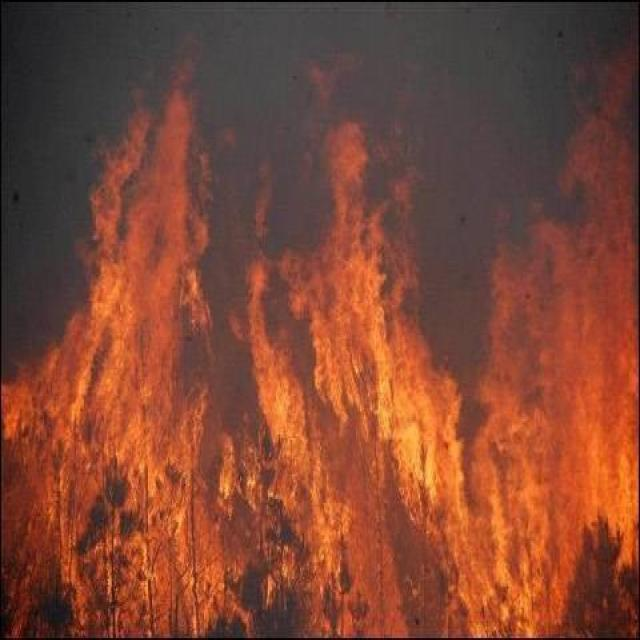fire: (16, 63, 635, 634)
smoke: (12, 9, 572, 180)
